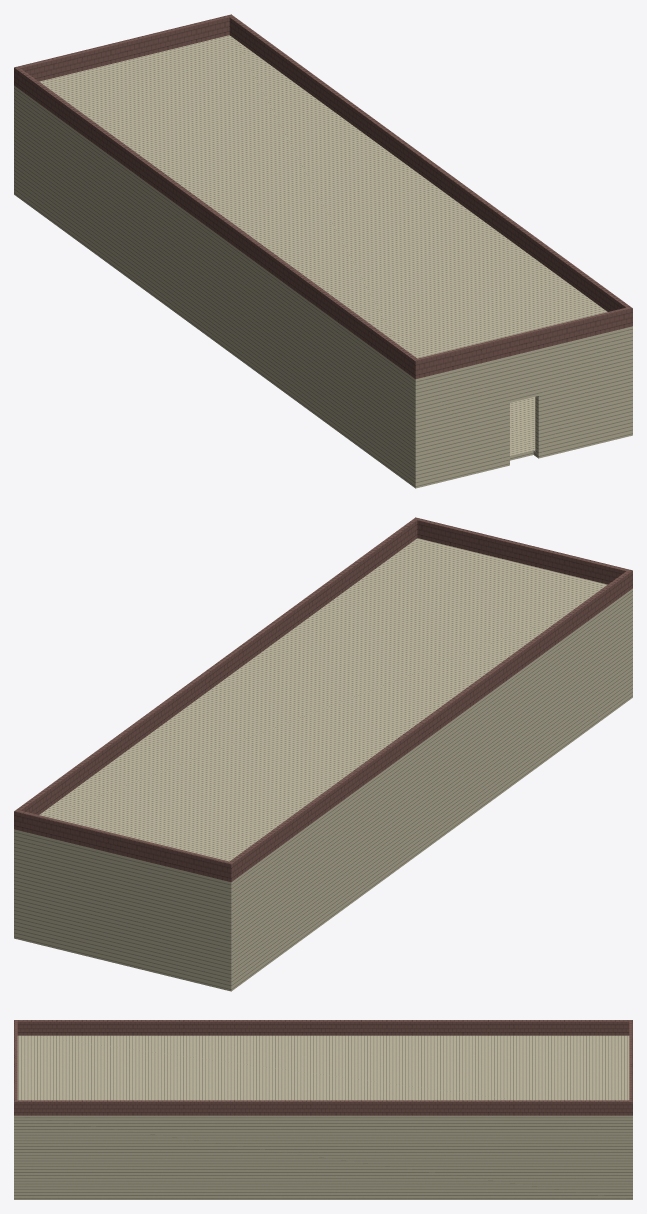
The model's file is storefront_hardware.glb.
3 renders of one model, top to bottom at view 1: azimuth 30°, elevation 25°; view 2: azimuth 150°, elevation 25°; view 3: azimuth 270°, elevation 25°, orthographic. The views are drawn at different scales.
Visible parts, largest first — view 1: storefront_hardware-col; view 2: storefront_hardware-col; view 3: storefront_hardware-col.
Boxes of the visible parts, x1,y1,x2,y2 form: storefront_hardware-col: (14, 14, 632, 488); storefront_hardware-col: (14, 517, 632, 991); storefront_hardware-col: (14, 1020, 632, 1199).
Size of the model in its own units: 7.62 by 4.26 by 24.38.
Materials: 2 (2 with a texture image).
